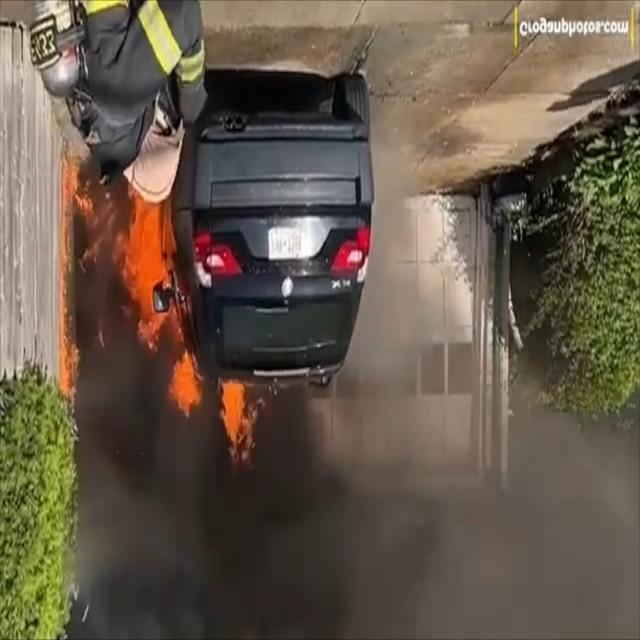fire: (56, 161, 254, 479)
